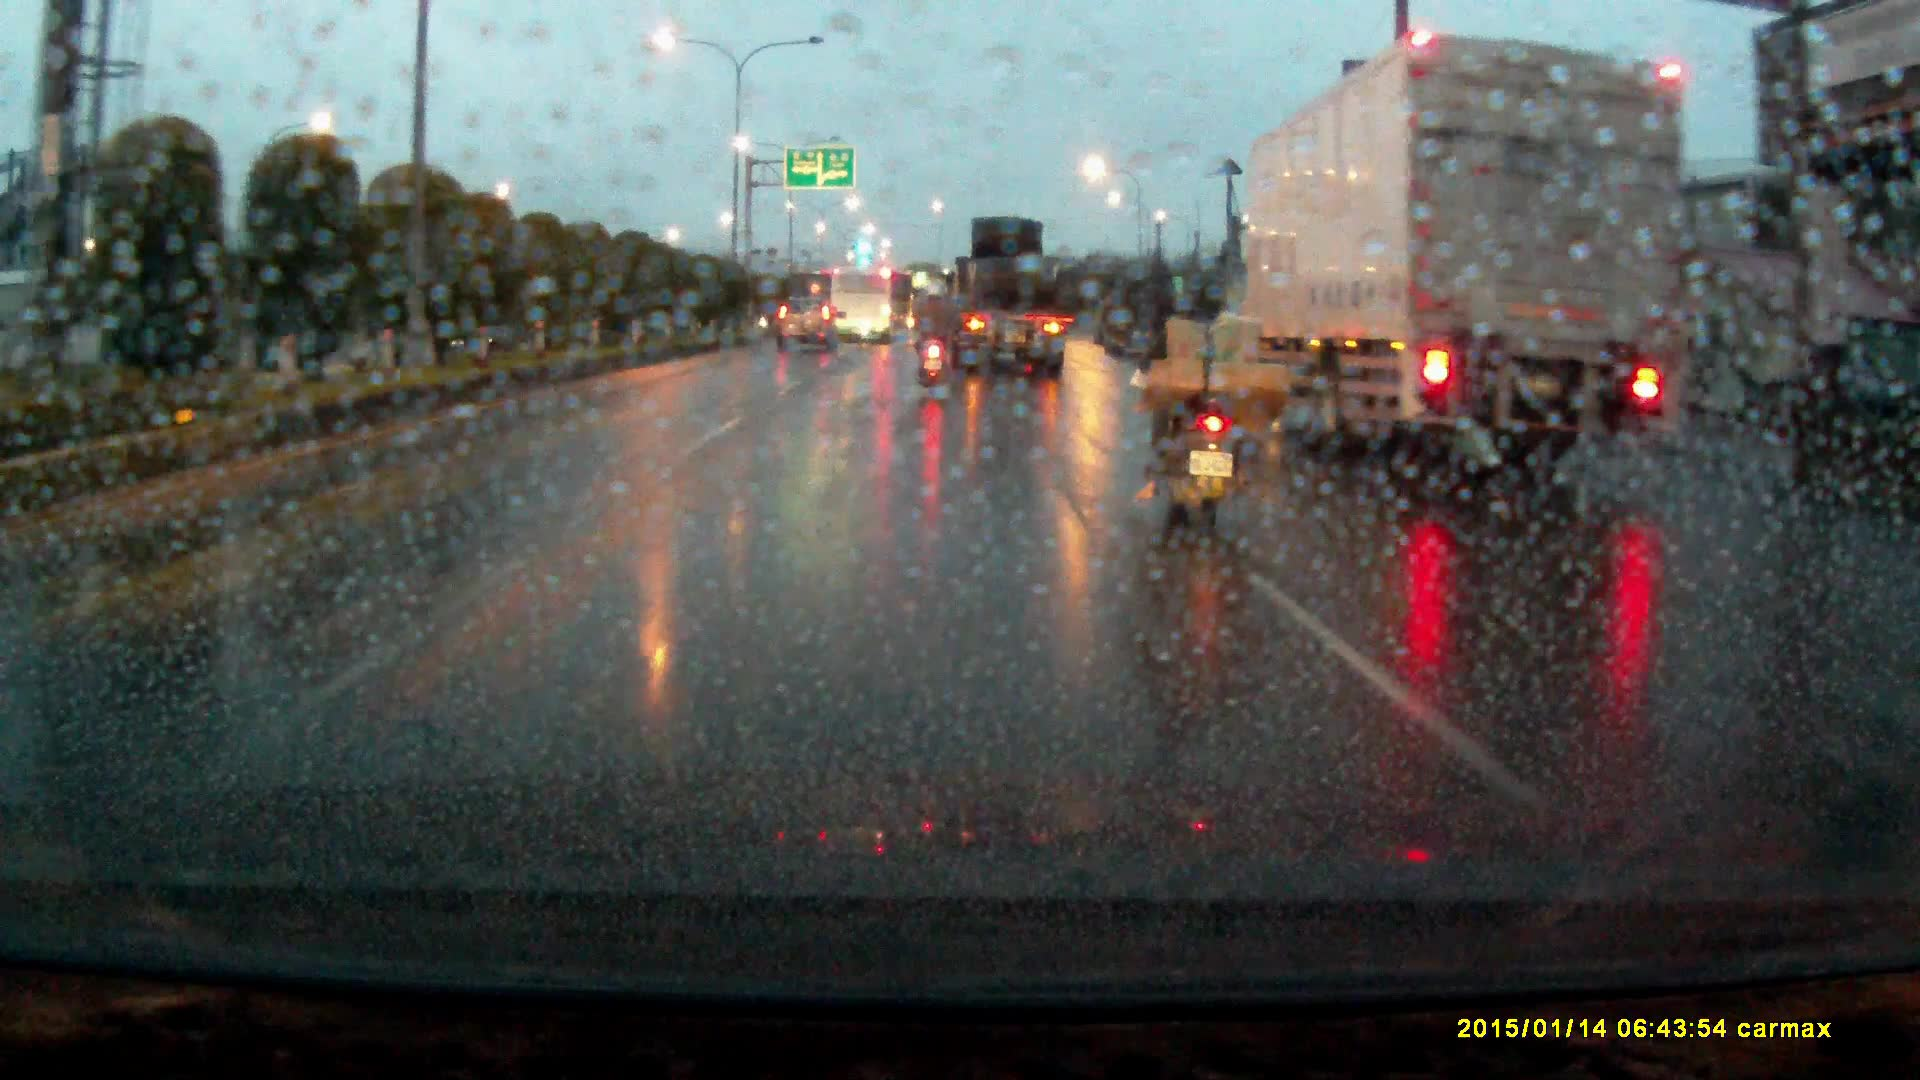rider: (1137, 253, 1293, 546), (913, 288, 955, 389)
vehicle: (1237, 32, 1691, 462), (936, 218, 1065, 377), (831, 267, 893, 342), (775, 290, 840, 350)
